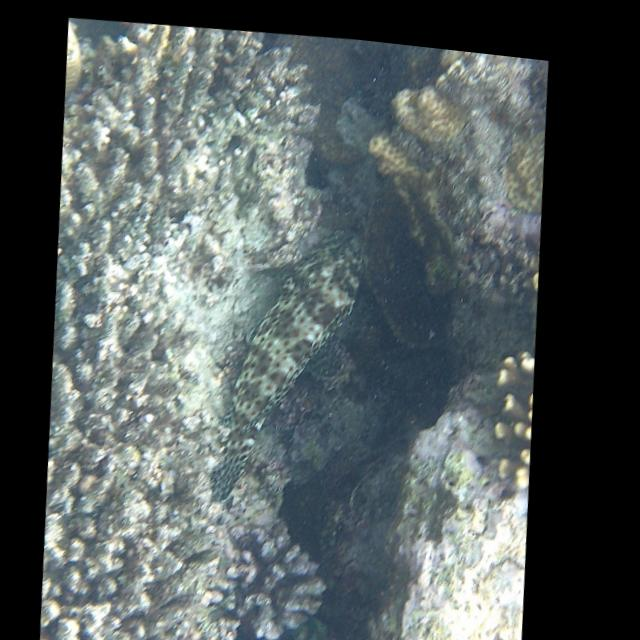Groupers: (199, 211, 381, 515)
